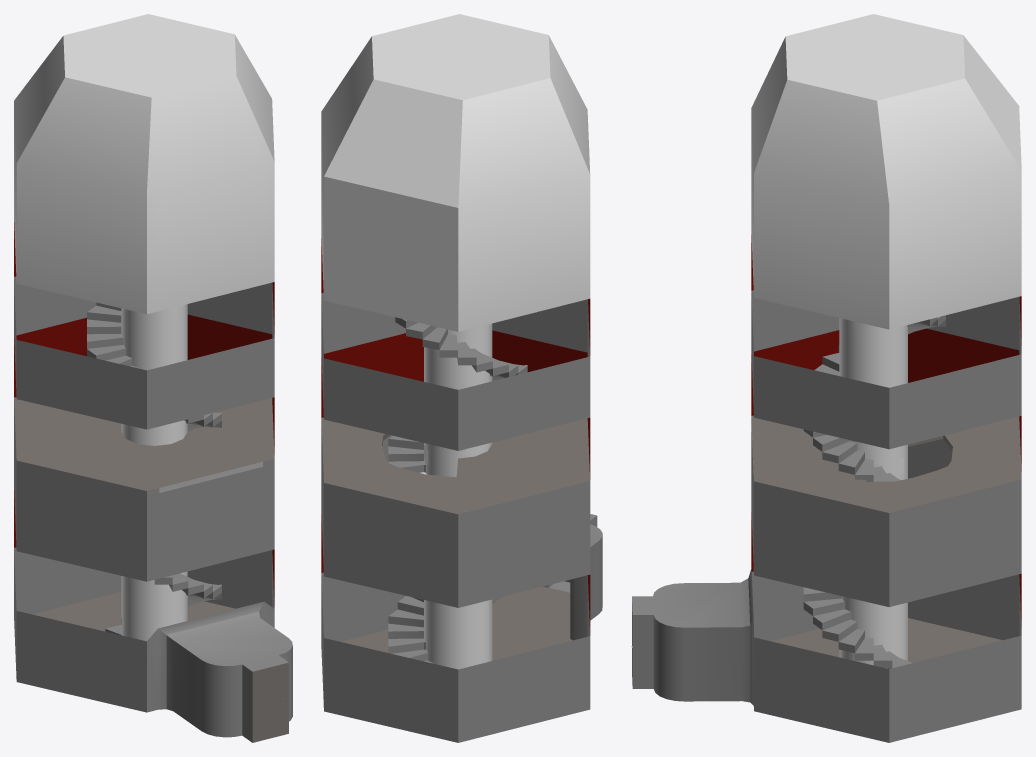
Rendered from interior.fbx.
3 views of the same model, side by side, from view 1: azimuth 30°, elevation 25°; view 2: azimuth 150°, elevation 25°; view 3: azimuth 270°, elevation 25° (orthographic). The views are drawn at different scales.
Parts seen in each view (by area): view 1: Cylinder; view 2: Cylinder; view 3: Cylinder.
Part boxes in pixels (x1,y1,x2,y2): Cylinder: (14, 14, 292, 742); Cylinder: (321, 14, 602, 742); Cylinder: (631, 14, 1021, 742).
Bounding box in the file's own units: 431 × 959 × 544.
